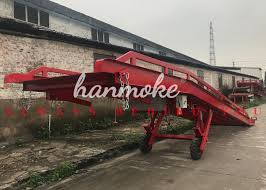Yard Ramp: (4, 50, 258, 160)
